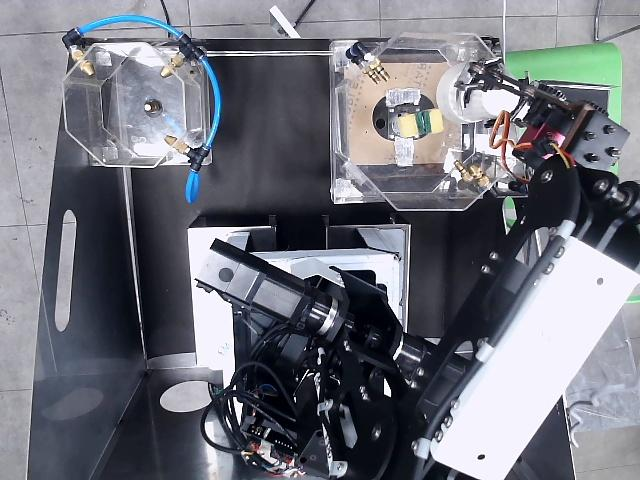cup: (437, 63, 515, 123)
